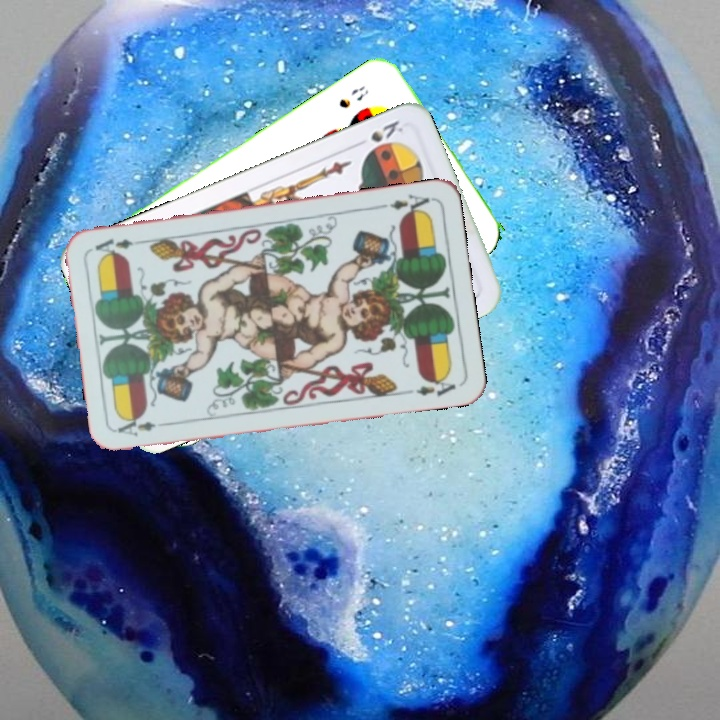EA: (375, 190, 432, 218), (113, 415, 158, 439)
S8: (334, 82, 371, 111)
SK: (366, 116, 406, 145)
